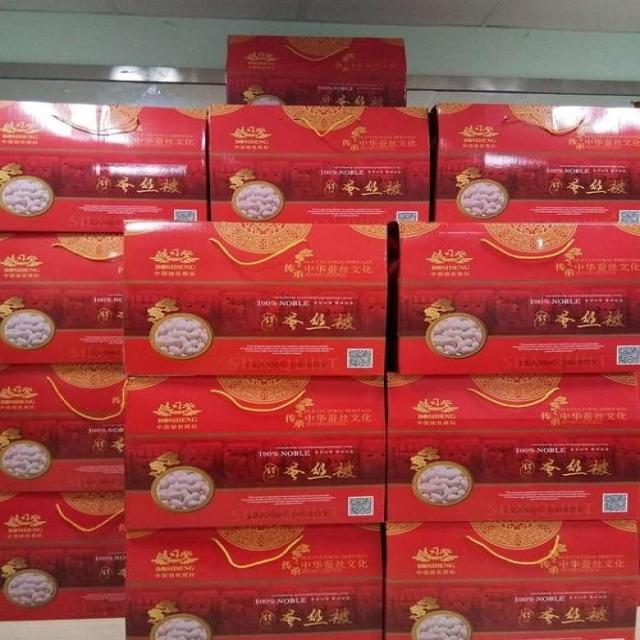box: (124, 222, 387, 377), (126, 378, 387, 530), (386, 370, 639, 521), (392, 221, 637, 373), (383, 518, 637, 638), (127, 521, 389, 636), (0, 100, 207, 231), (206, 106, 433, 222), (430, 103, 639, 224), (1, 489, 128, 621), (0, 231, 123, 367), (0, 364, 125, 493), (226, 34, 406, 108)
